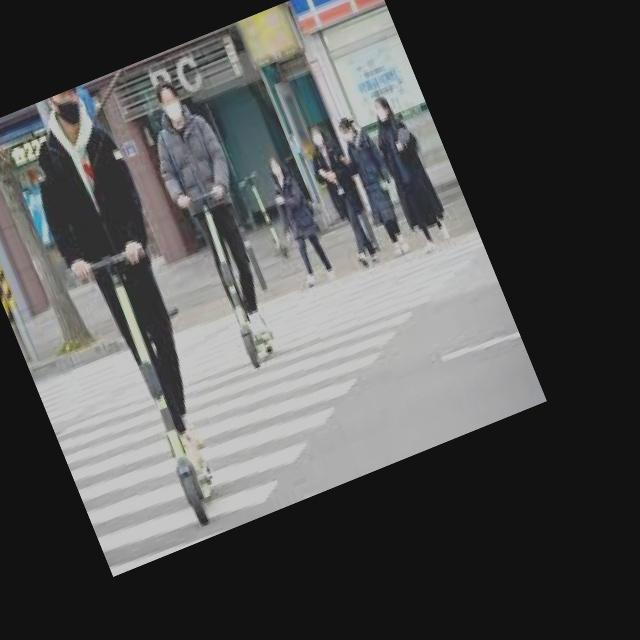bare_head: (148, 81, 193, 124)
human: (151, 79, 273, 340)
kickboard: (228, 318, 295, 371)
